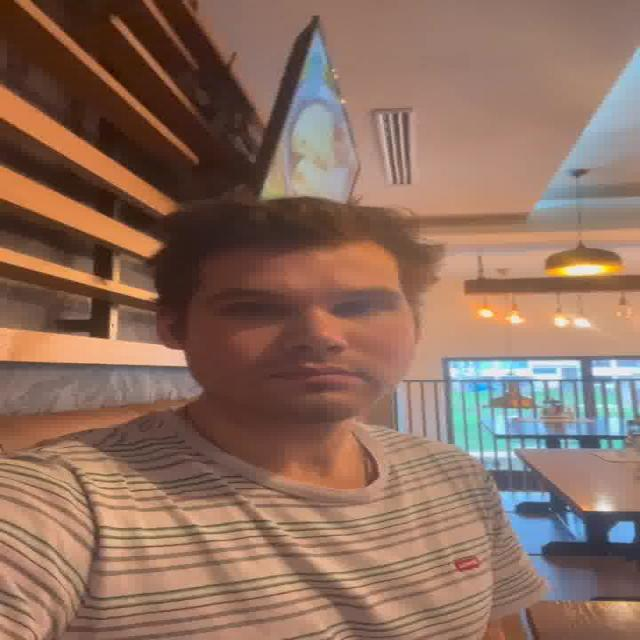earlobe: (163, 337, 184, 351)
eye: (334, 300, 390, 316), (222, 302, 276, 316)
nose: (287, 348, 347, 367)
wholeear: (156, 306, 184, 351)
